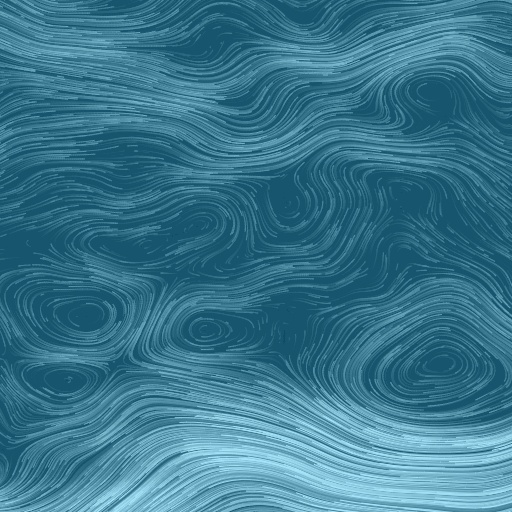eddy: (367, 311, 509, 416), (81, 198, 233, 269), (31, 278, 138, 351), (19, 356, 112, 408), (166, 304, 261, 354)
